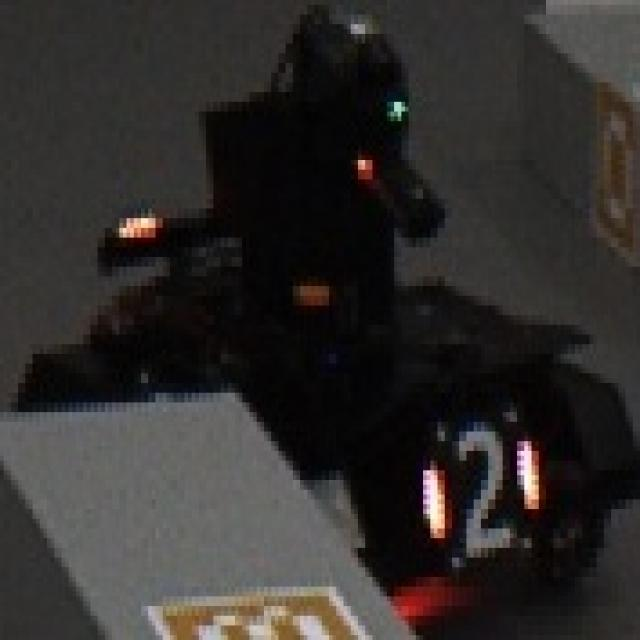R2: (416, 422, 542, 553)
